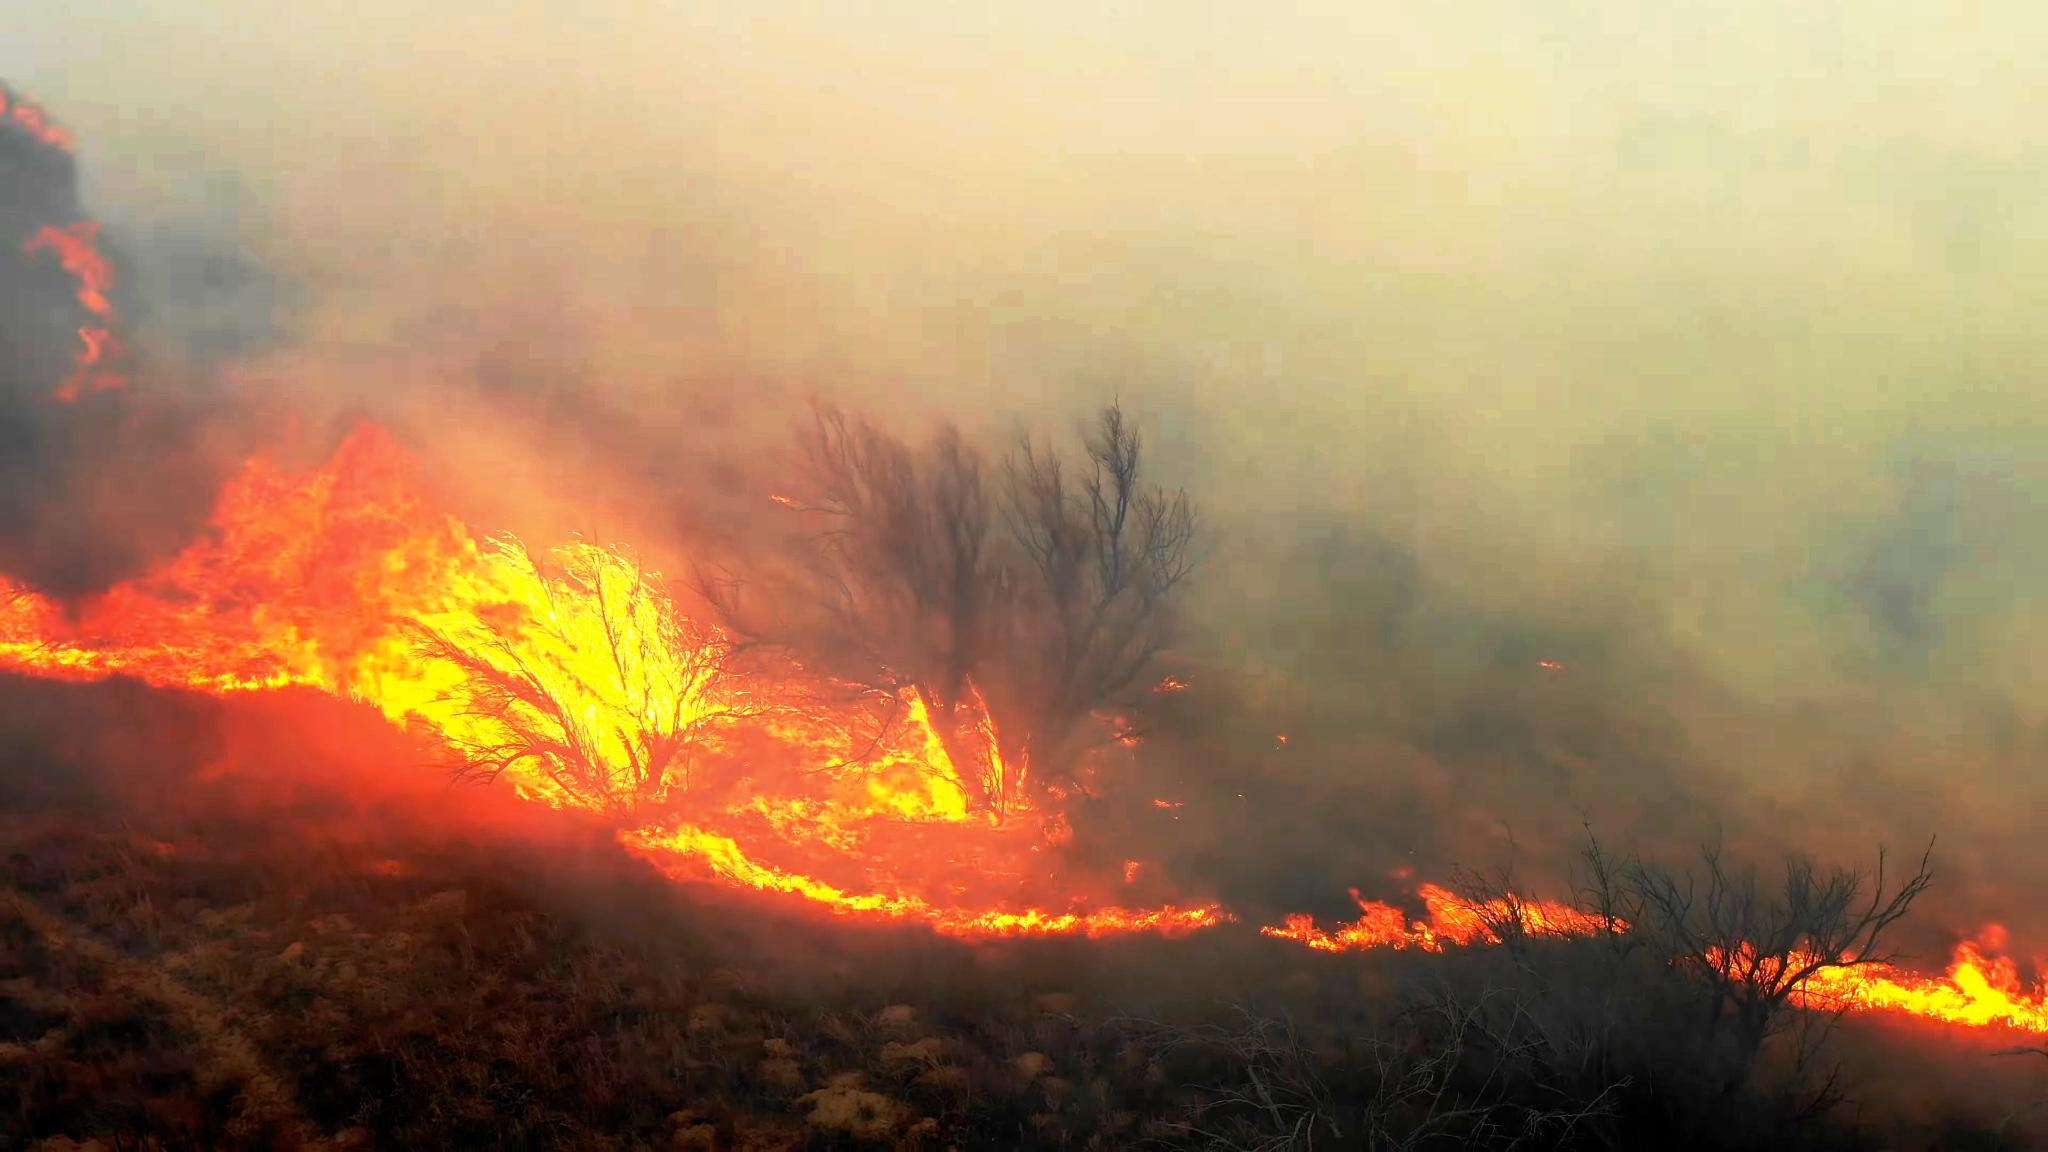fire: (219, 442, 655, 805), (641, 675, 1014, 875), (1774, 931, 2048, 1041), (1300, 871, 1601, 951), (0, 594, 229, 675)
